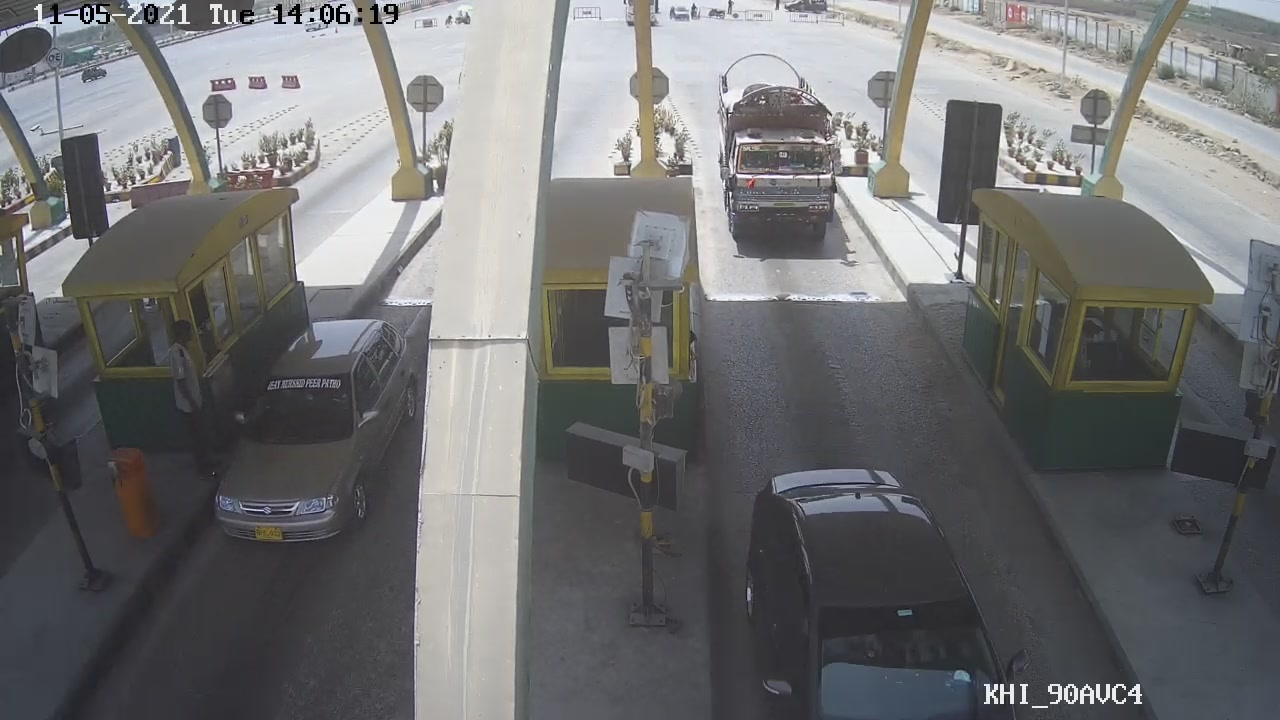F5: (704, 65, 854, 261)
